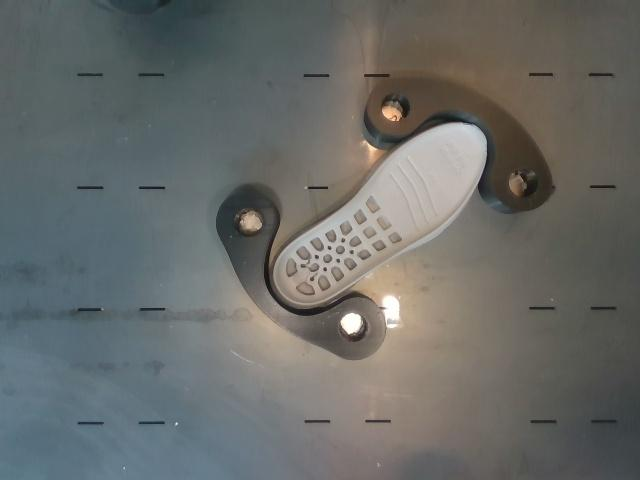shoes: (274, 124, 486, 304)
